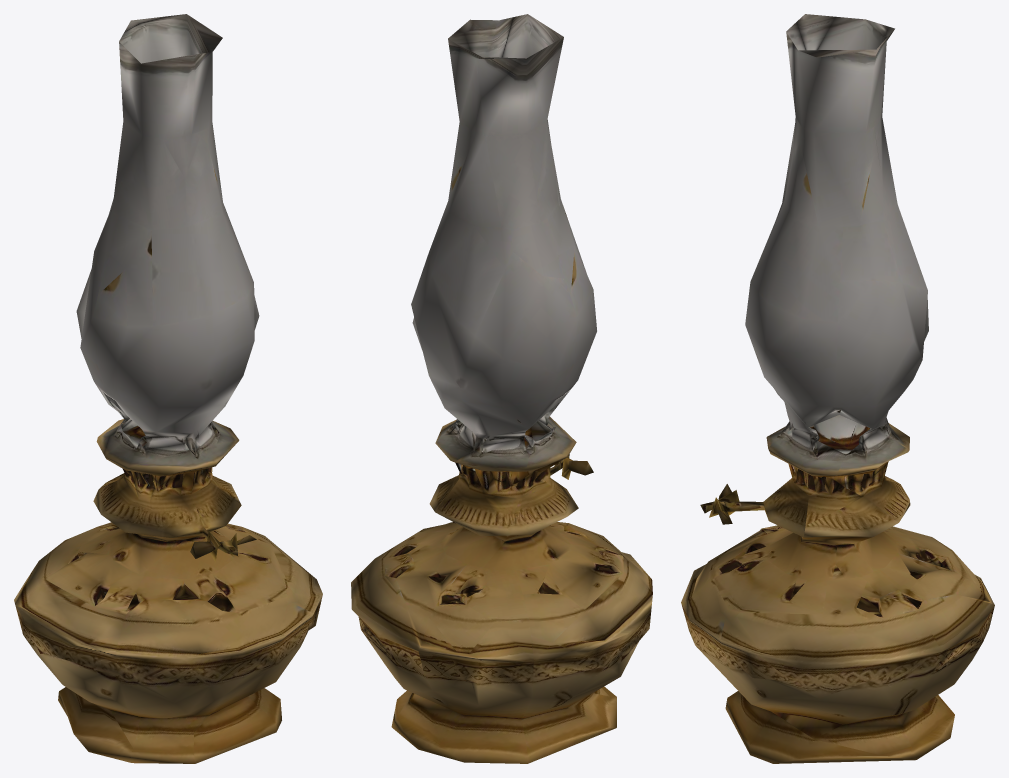
The model's file is lamp.glb.
3 views of the same model, side by side, from view 1: azimuth 30°, elevation 25°; view 2: azimuth 150°, elevation 25°; view 3: azimuth 270°, elevation 25° (orthographic).
Visible parts, largest first — view 1: tripo_node_679a1dcf-6a2a-4d02-8095-eb9dc7345d7e; view 2: tripo_node_679a1dcf-6a2a-4d02-8095-eb9dc7345d7e; view 3: tripo_node_679a1dcf-6a2a-4d02-8095-eb9dc7345d7e.
Part boxes in pixels (x1,y1,x2,y2): tripo_node_679a1dcf-6a2a-4d02-8095-eb9dc7345d7e: (14,14,322,763); tripo_node_679a1dcf-6a2a-4d02-8095-eb9dc7345d7e: (351,14,652,763); tripo_node_679a1dcf-6a2a-4d02-8095-eb9dc7345d7e: (681,14,994,763).
Size of the model in its own units: 0.3966 by 0.9785 by 0.4014.
Materials: 1 (1 with a texture image).
